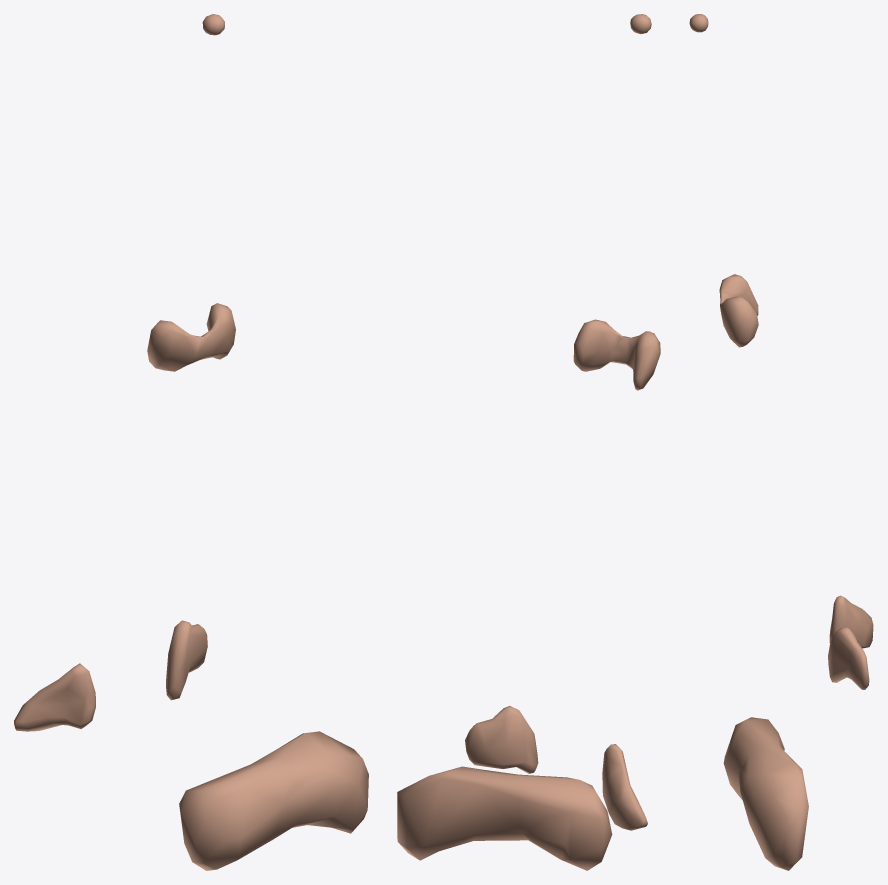
File: pediatric_child_5y_male.endocrine.LOD2.glb
The picture shows the model from 3 angles, left to right: view 1: azimuth 30°, elevation 25°; view 2: azimuth 150°, elevation 25°; view 3: azimuth 270°, elevation 25°; orthographic projection. The views are drawn at different scales.
Visible parts, largest first — view 1: PEDIATRIC.CHILD_5Y.MALE.ENDOCRINE.PANCREAS, PEDIATRIC.CHILD_5Y.MALE.ENDOCRINE.THYROID, PEDIATRIC.CHILD_5Y.MALE.ENDOCRINE.ADRENAL.R, PEDIATRIC.CHILD_5Y.MALE.ENDOCRINE.ADRENAL.L; view 2: PEDIATRIC.CHILD_5Y.MALE.ENDOCRINE.PANCREAS, PEDIATRIC.CHILD_5Y.MALE.ENDOCRINE.THYROID, PEDIATRIC.CHILD_5Y.MALE.ENDOCRINE.ADRENAL.L, PEDIATRIC.CHILD_5Y.MALE.ENDOCRINE.ADRENAL.R; view 3: PEDIATRIC.CHILD_5Y.MALE.ENDOCRINE.PANCREAS, PEDIATRIC.CHILD_5Y.MALE.ENDOCRINE.THYROID, PEDIATRIC.CHILD_5Y.MALE.ENDOCRINE.ADRENAL.L, PEDIATRIC.CHILD_5Y.MALE.ENDOCRINE.ADRENAL.R.
Part boxes in pixels (bbox=[...]): PEDIATRIC.CHILD_5Y.MALE.ENDOCRINE.PANCREAS: bbox=[179, 731, 368, 870]; PEDIATRIC.CHILD_5Y.MALE.ENDOCRINE.THYROID: bbox=[147, 303, 235, 371]; PEDIATRIC.CHILD_5Y.MALE.ENDOCRINE.ADRENAL.R: bbox=[14, 663, 95, 731]; PEDIATRIC.CHILD_5Y.MALE.ENDOCRINE.ADRENAL.L: bbox=[166, 620, 207, 700]; PEDIATRIC.CHILD_5Y.MALE.ENDOCRINE.PANCREAS: bbox=[397, 766, 612, 870]; PEDIATRIC.CHILD_5Y.MALE.ENDOCRINE.THYROID: bbox=[573, 319, 660, 390]; PEDIATRIC.CHILD_5Y.MALE.ENDOCRINE.ADRENAL.L: bbox=[465, 706, 538, 773]; PEDIATRIC.CHILD_5Y.MALE.ENDOCRINE.ADRENAL.R: bbox=[602, 744, 647, 830]; PEDIATRIC.CHILD_5Y.MALE.ENDOCRINE.PANCREAS: bbox=[723, 717, 808, 870]; PEDIATRIC.CHILD_5Y.MALE.ENDOCRINE.THYROID: bbox=[719, 274, 758, 347]; PEDIATRIC.CHILD_5Y.MALE.ENDOCRINE.ADRENAL.L: bbox=[828, 627, 869, 689]; PEDIATRIC.CHILD_5Y.MALE.ENDOCRINE.ADRENAL.R: bbox=[829, 595, 873, 648].
Bounding box in the file's own units: 0.1276 × 0.3544 × 0.0761.
